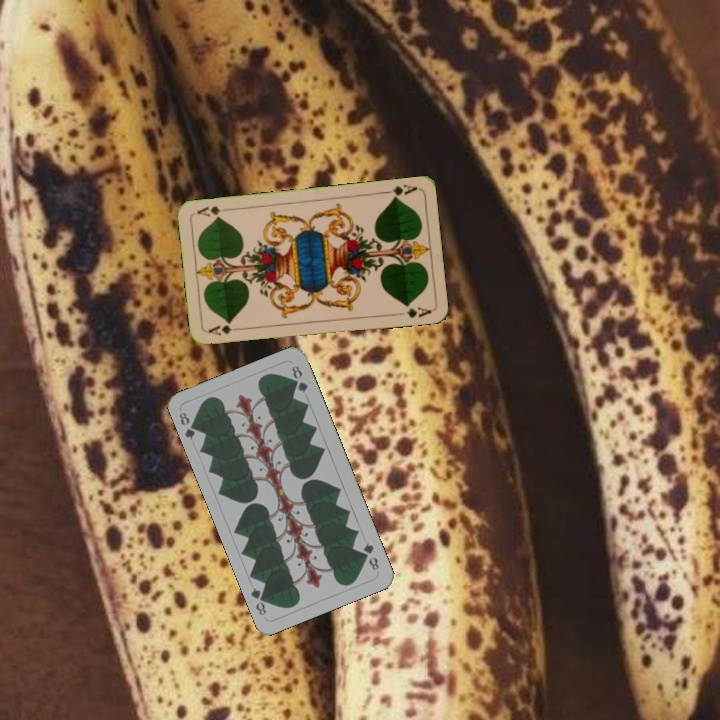G8: (175, 408, 201, 442), (359, 538, 382, 573)
GA: (379, 181, 420, 202), (204, 321, 245, 338)
